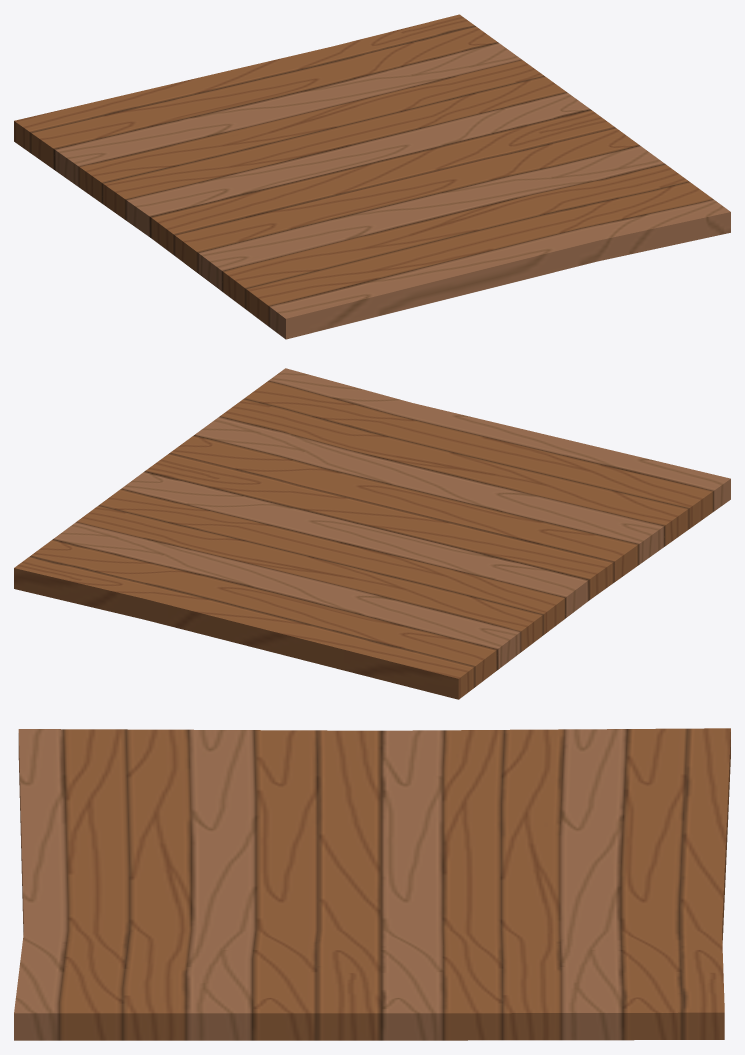
Rendered from building_weapon_ground_lv3.FBX.
3 renders of one model, top to bottom at view 1: azimuth 30°, elevation 25°; view 2: azimuth 150°, elevation 25°; view 3: azimuth 270°, elevation 25°, orthographic. The views are drawn at different scales.
Parts seen in each view (by area): view 1: building_weapon_ground_lv3; view 2: building_weapon_ground_lv3; view 3: building_weapon_ground_lv3.
Boxes of the visible parts, bbox=[...] form: building_weapon_ground_lv3: bbox=[14, 14, 730, 339]; building_weapon_ground_lv3: bbox=[14, 368, 730, 699]; building_weapon_ground_lv3: bbox=[14, 728, 730, 1040].
Size of the model in its own units: 356 by 15.87 by 379.
